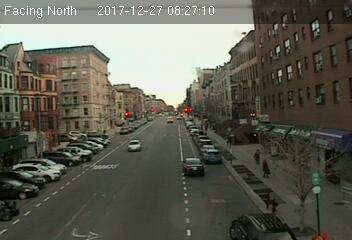car: (180, 158, 205, 176), (202, 150, 221, 162), (126, 140, 145, 151)
pedestrian: (261, 159, 272, 179)
